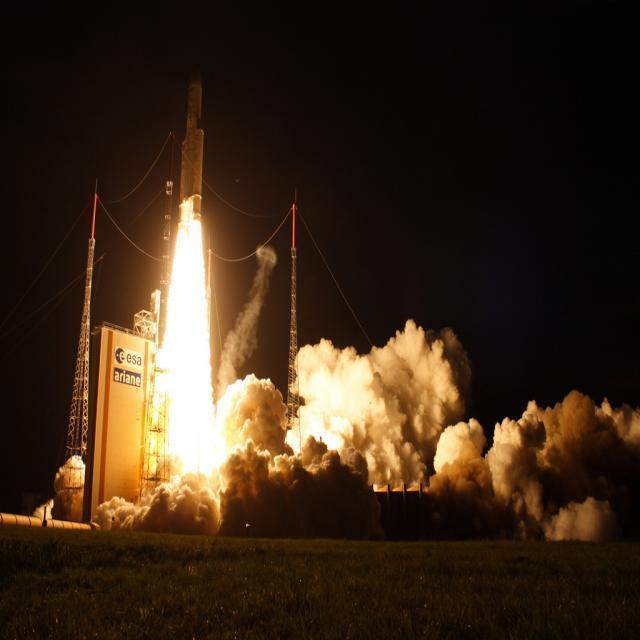missile: (157, 47, 237, 237)
